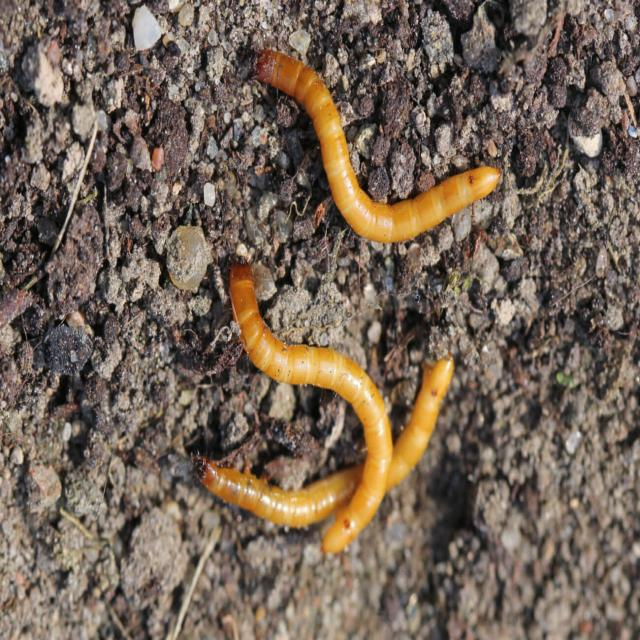wireworm: (190, 342, 463, 538), (252, 46, 508, 252), (224, 268, 396, 572)
